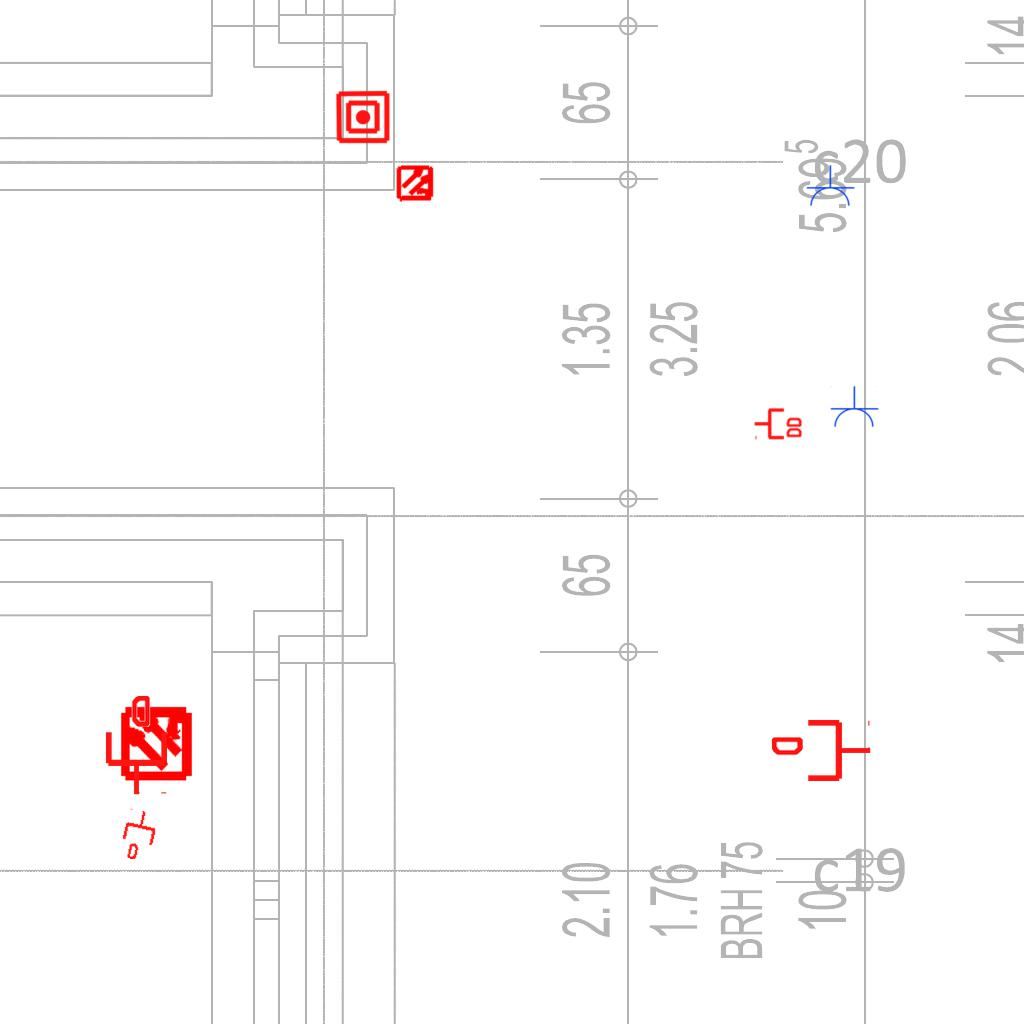Datenanschluss_einfach: (772, 716, 872, 785), (102, 696, 171, 796), (116, 806, 162, 864)
Datenanschluss_zweifach: (753, 406, 804, 440)
NAM-Nichtautomatischer_Melder: (335, 89, 391, 145)
OT_Multisensormelder_(Kombination_RMO_WMD): (100, 685, 213, 798), (387, 154, 445, 212)
Schukosteckdose_einfach: (829, 386, 879, 429), (805, 165, 855, 208)
